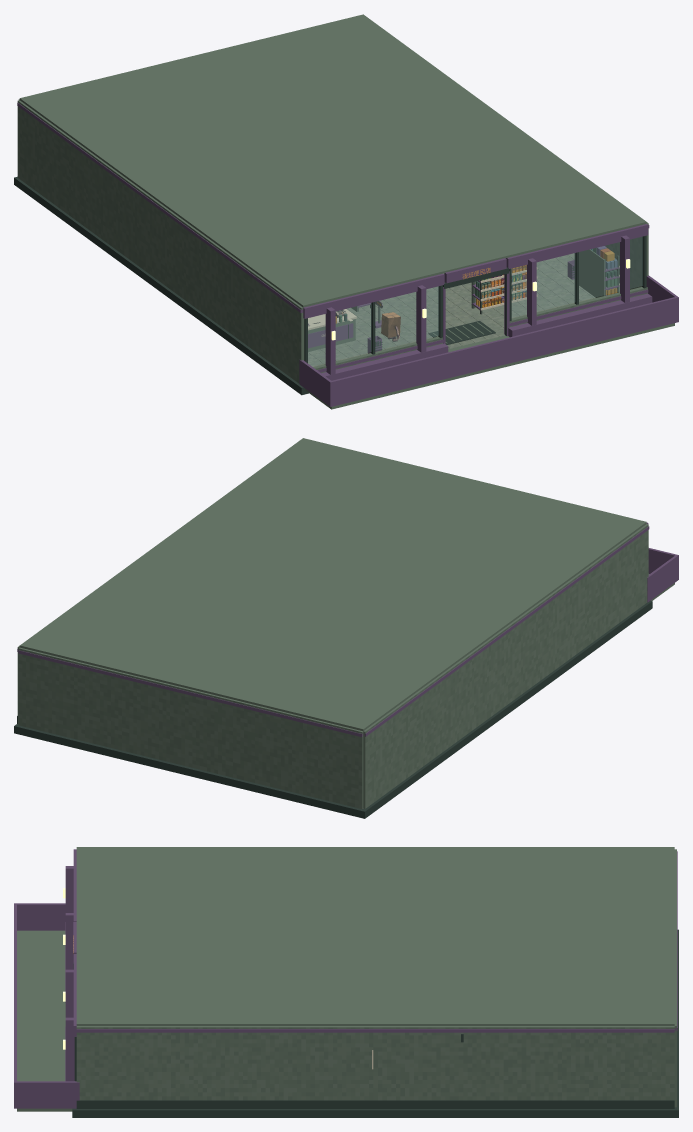
The model's file is L3_整店不对劲.fbx.
The picture shows the model from 3 angles, top to bottom: view 1: azimuth 30°, elevation 25°; view 2: azimuth 150°, elevation 25°; view 3: azimuth 270°, elevation 25°; orthographic projection. The views are drawn at different scales.
Parts seen in each view (by area): view 1: CEILING_FRONT, WALL_PIXEL_V_0_0_-1, CEILING_WAREHOUSE, CEILING_LOADING, CEILING_COLD, L3_APRON_FRONT_GUARD, WINDOW_GLASS_8.3, WINDOW_GLASS_0, FOUNDATION, FRONT_HEADER_8.3, FRONT_HEADER_0, SHOP_FRONT_SILL.001 (+13 smaller); view 2: CEILING_FRONT, WALL_PIXEL_H_20_0_1, WALL_PIXEL_V_0_0_-1, CEILING_LOADING, CEILING_WAREHOUSE, CEILING_COLD, FOUNDATION, WALL_TRIM_H_20_0, WALL_TRIM_V_0_0, WALL_V_0_0, L3_APRON_SIDE_GUARD, WALL_H_20_0; view 3: CEILING_FRONT, WALL_PIXEL_V_14_0_1, CEILING_LOADING, CEILING_WAREHOUSE, CEILING_COLD, L3_ENTRY_APRON, FOUNDATION, SKIRT_V_14_0, WALL_TRIM_V_14_0, L3_APRON_SIDE_GUARD.001, L3_APRON_SIDE_GUARD, WALL_V_14_0 (+6 smaller).
Part boxes in pixels (x1,y1,x2,y2): CEILING_FRONT: (175, 128, 646, 307); WALL_PIXEL_V_0_0_-1: (17, 101, 301, 383); CEILING_WAREHOUSE: (76, 92, 371, 213); CEILING_LOADING: (19, 14, 419, 141); CEILING_COLD: (273, 56, 518, 164); L3_APRON_FRONT_GUARD: (329, 296, 678, 406); WINDOW_GLASS_8.3: (512, 237, 642, 317); WINDOW_GLASS_0: (308, 286, 438, 366); FOUNDATION: (14, 176, 308, 395); FRONT_HEADER_8.3: (506, 224, 648, 268); FRONT_HEADER_0: (303, 273, 444, 318); SHOP_FRONT_SILL.001: (508, 293, 652, 337); CEILING_FRONT: (176, 438, 646, 616); WALL_PIXEL_H_20_0_1: (18, 648, 362, 808); WALL_PIXEL_V_0_0_-1: (365, 525, 648, 808); CEILING_LOADING: (19, 604, 419, 731); CEILING_WAREHOUSE: (224, 567, 519, 689); CEILING_COLD: (77, 531, 322, 639); FOUNDATION: (14, 600, 652, 818); WALL_TRIM_H_20_0: (18, 650, 362, 737); WALL_TRIM_V_0_0: (363, 526, 649, 736); WALL_V_0_0: (363, 524, 648, 808); L3_APRON_SIDE_GUARD: (647, 554, 678, 602); WALL_H_20_0: (19, 647, 363, 808); CEILING_FRONT: (76, 847, 345, 1025); WALL_PIXEL_V_14_0_1: (76, 1027, 674, 1100); CEILING_LOADING: (555, 847, 674, 1025); CEILING_WAREHOUSE: (345, 847, 554, 948); CEILING_COLD: (345, 948, 554, 1025); L3_ENTRY_APRON: (17, 930, 72, 1111); FOUNDATION: (72, 929, 678, 1117); SKIRT_V_14_0: (76, 1100, 674, 1108); WALL_TRIM_V_14_0: (76, 1029, 674, 1032); L3_APRON_SIDE_GUARD.001: (14, 1081, 79, 1108); L3_APRON_SIDE_GUARD: (14, 903, 65, 930); WALL_V_14_0: (76, 1026, 674, 1027).
Bounding box in the file's own units: 14.3 × 3.4 × 22.25.
53 materials, 14 textured.
